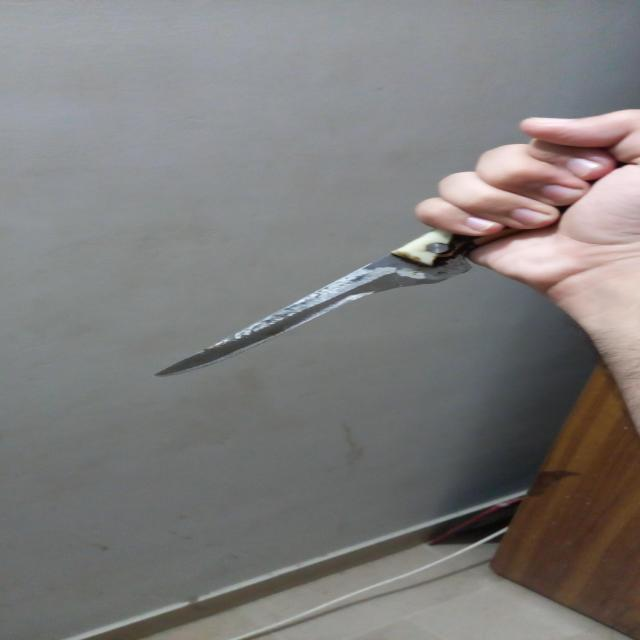Knife: (155, 226, 500, 376)
Person: (429, 108, 640, 434)
